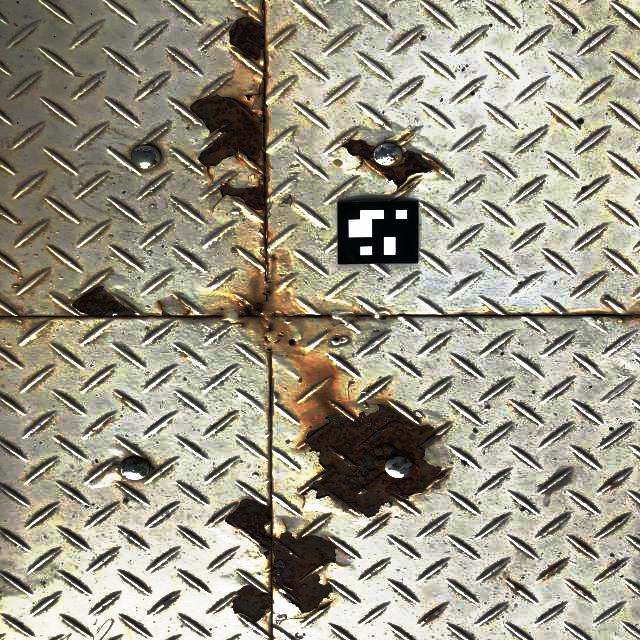Corrosion: (305, 405, 442, 517), (226, 500, 336, 613), (190, 90, 265, 174), (341, 138, 442, 191), (70, 285, 139, 318), (227, 16, 266, 63), (218, 181, 266, 218), (233, 586, 272, 623), (238, 303, 267, 316), (421, 615, 436, 623), (317, 602, 331, 610), (436, 471, 447, 480), (161, 597, 172, 605), (513, 585, 522, 591)
